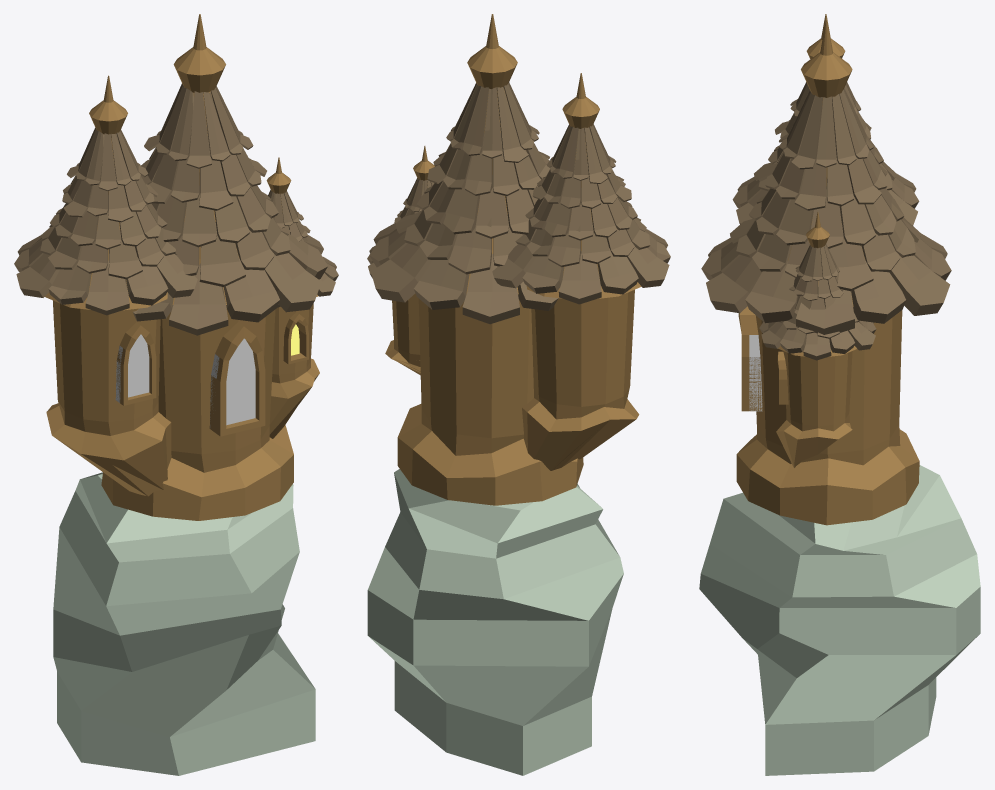
The model's file is Mage2.glb.
3 renders of one model, left to right at view 1: azimuth 30°, elevation 25°; view 2: azimuth 150°, elevation 25°; view 3: azimuth 270°, elevation 25°, orthographic. The views are drawn at different scales.
Parts seen in each view (by area): view 1: Circle.004, Circle.003, Circle, Circle.006, Circle.005, Circle.010, Plane, Circle.001, Circle.011, Plane.001, Circle.007; view 2: Circle.004, Circle.003, Circle, Circle.006, Circle.005, Circle.010, Circle.001, Circle.007, Circle.011; view 3: Circle.004, Circle.003, Circle, Circle.010, Circle.011, Circle.006, Circle.001, Plane.
Boxes of the visible parts, x1=… form: Circle.004: x1=53, y1=472, x2=315, y2=775; Circle.003: x1=133, y1=83, x2=327, y2=335; Circle: x1=101, y1=91, x2=293, y2=520; Circle.006: x1=14, y1=127, x2=197, y2=315; Circle.005: x1=45, y1=135, x2=171, y2=496; Circle.010: x1=269, y1=194, x2=319, y2=438; Plane: x1=210, y1=338, x2=255, y2=427; Circle.001: x1=173, y1=14, x2=225, y2=92; Circle.011: x1=268, y1=190, x2=338, y2=307; Plane.001: x1=115, y1=334, x2=149, y2=402; Circle.007: x1=89, y1=75, x2=127, y2=134; Circle.004: x1=367, y1=469, x2=623, y2=775; Circle.003: x1=369, y1=82, x2=558, y2=324; Circle: x1=397, y1=89, x2=583, y2=505; Circle.006: x1=492, y1=124, x2=670, y2=304; Circle.005: x1=522, y1=132, x2=641, y2=470; Circle.010: x1=385, y1=183, x2=427, y2=375; Circle.001: x1=467, y1=14, x2=517, y2=89; Circle.007: x1=562, y1=73, x2=599, y2=129; Circle.011: x1=367, y1=178, x2=434, y2=278; Circle.004: x1=699, y1=465, x2=980, y2=775; Circle.003: x1=701, y1=88, x2=951, y2=334; Circle: x1=736, y1=97, x2=919, y2=525; Circle.010: x1=776, y1=281, x2=856, y2=467; Circle.011: x1=759, y1=244, x2=876, y2=360; Circle.006: x1=732, y1=82, x2=919, y2=225; Circle.001: x1=801, y1=19, x2=852, y2=97; Plane: x1=749, y1=335, x2=762, y2=411.
Size of the model in its own units: 7.04 by 15.84 by 5.62.
